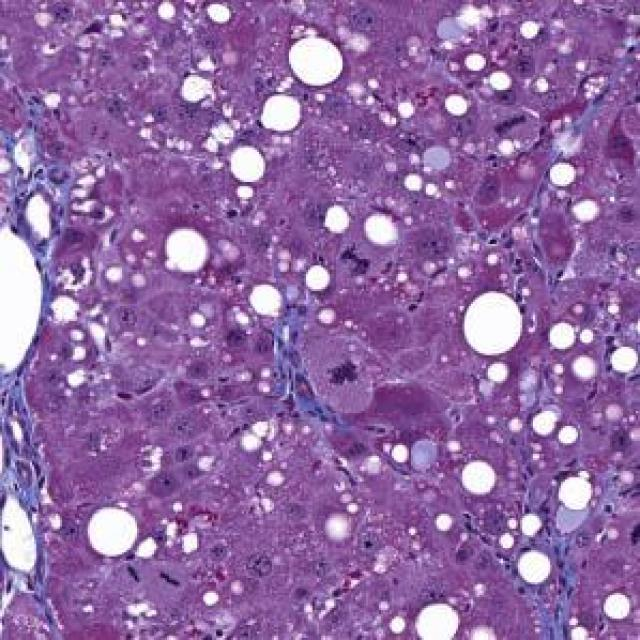fibrosis: (10, 129, 86, 261), (516, 537, 588, 627), (264, 317, 326, 417)
